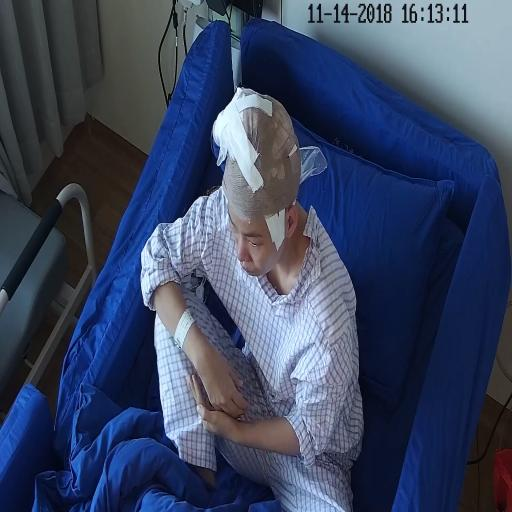Netural: (220, 118, 302, 278)
